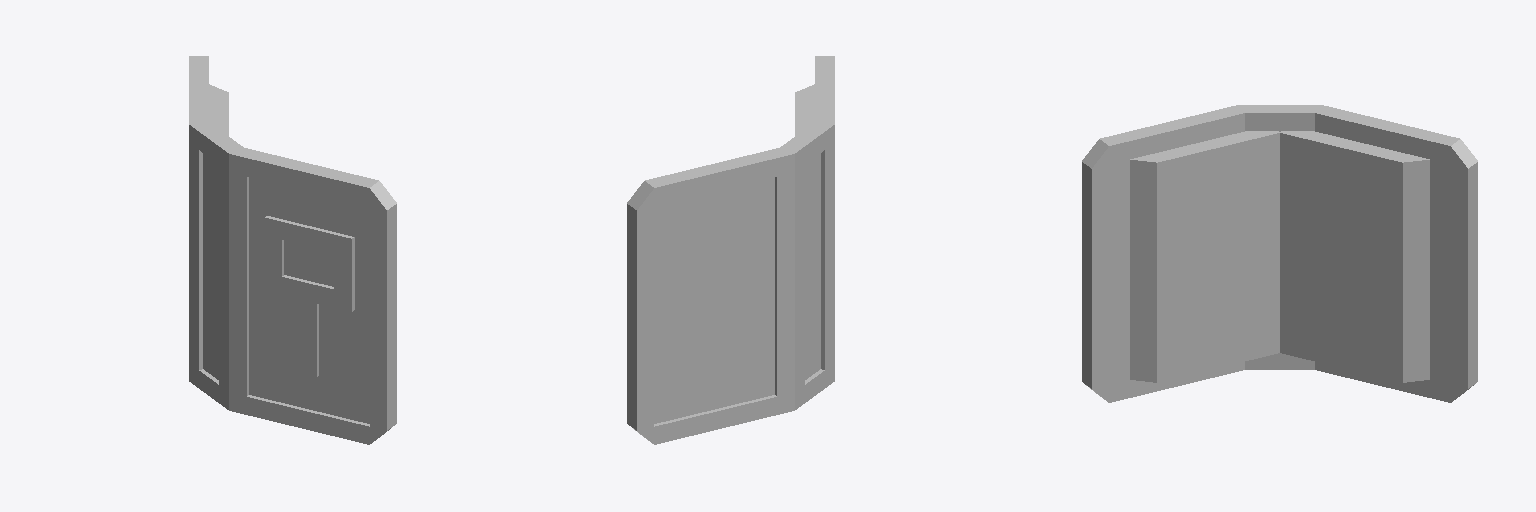
File: bookofmarks_open.obj
3 views of the same model, side by side, from view 1: azimuth 30°, elevation 25°; view 2: azimuth 150°, elevation 25°; view 3: azimuth 270°, elevation 25° (orthographic).
Visible parts, largest first — view 1: COVER_FRONT_EXTVAR1_OPEN_Cube.183, SPINE_EXTVAR1_OPEN_Cube.061, COVERDECO_EXTVAR1_OPEN_Cube.182, COVER_BACK_EXTVAR1_OPEN_Cube.184, PAGES_EXTVAR1_BACK_OPEN_Cube.186; view 2: COVER_BACK_EXTVAR1_OPEN_Cube.184, SPINE_EXTVAR1_OPEN_Cube.061, COVER_FRONT_EXTVAR1_OPEN_Cube.183, PAGES_EXTVAR1_FRONT_OPEN_Cube.185; view 3: PAGES_EXTVAR1_BACK_OPEN_Cube.186, PAGES_EXTVAR1_FRONT_OPEN_Cube.185, COVER_FRONT_EXTVAR1_OPEN_Cube.183, COVER_BACK_EXTVAR1_OPEN_Cube.184, SPINE_EXTVAR1_OPEN_Cube.061.
Boxes of the visible parts, <box> form: COVER_FRONT_EXTVAR1_OPEN_Cube.183: <box>229,146,396,444</box>; SPINE_EXTVAR1_OPEN_Cube.061: <box>189,122,242,409</box>; COVERDECO_EXTVAR1_OPEN_Cube.182: <box>264,216,354,376</box>; COVER_BACK_EXTVAR1_OPEN_Cube.184: <box>189,56,208,123</box>; PAGES_EXTVAR1_BACK_OPEN_Cube.186: <box>209,84,228,135</box>; COVER_BACK_EXTVAR1_OPEN_Cube.184: <box>627,146,794,444</box>; SPINE_EXTVAR1_OPEN_Cube.061: <box>781,122,834,409</box>; COVER_FRONT_EXTVAR1_OPEN_Cube.183: <box>815,56,834,123</box>; PAGES_EXTVAR1_FRONT_OPEN_Cube.185: <box>795,84,814,135</box>; PAGES_EXTVAR1_BACK_OPEN_Cube.186: <box>1280,131,1429,382</box>; PAGES_EXTVAR1_FRONT_OPEN_Cube.185: <box>1130,131,1279,382</box>; COVER_FRONT_EXTVAR1_OPEN_Cube.183: <box>1082,105,1247,402</box>; COVER_BACK_EXTVAR1_OPEN_Cube.184: <box>1313,105,1477,402</box>; SPINE_EXTVAR1_OPEN_Cube.061: <box>1239,105,1320,369</box>.
Size of the model in its own units: 0.3354 by 0.875 by 1.22.